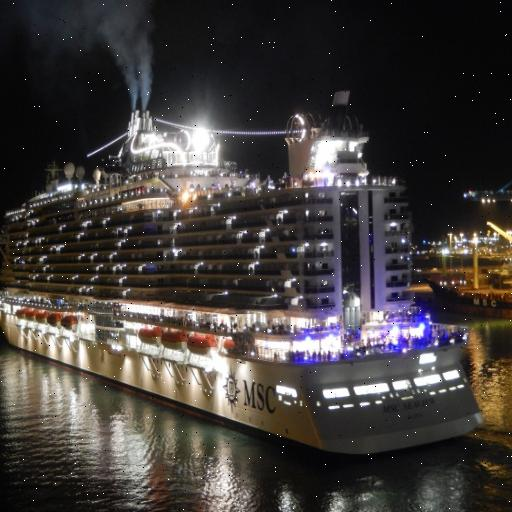cruises: (1, 88, 487, 464)
